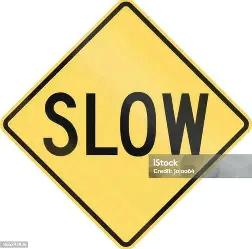Slow: (1, 0, 248, 244)
